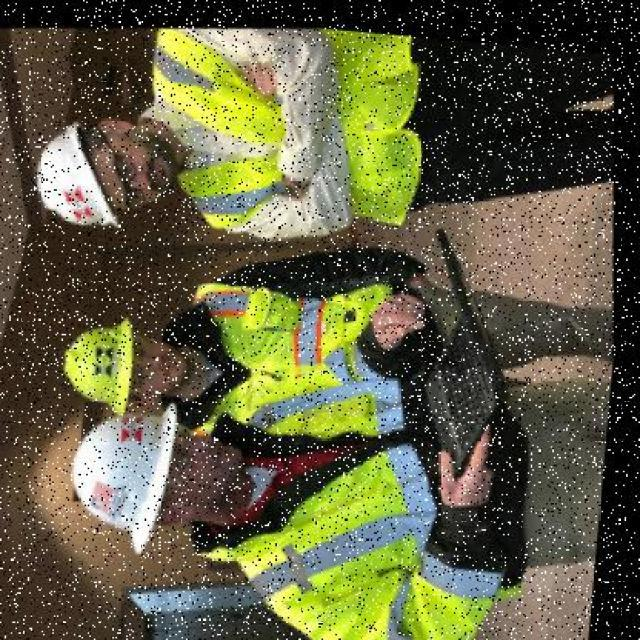helmet: (62, 382, 192, 575), (31, 105, 148, 248), (60, 305, 160, 416)
vest: (206, 348, 519, 621), (136, 11, 471, 249), (179, 260, 416, 432)
